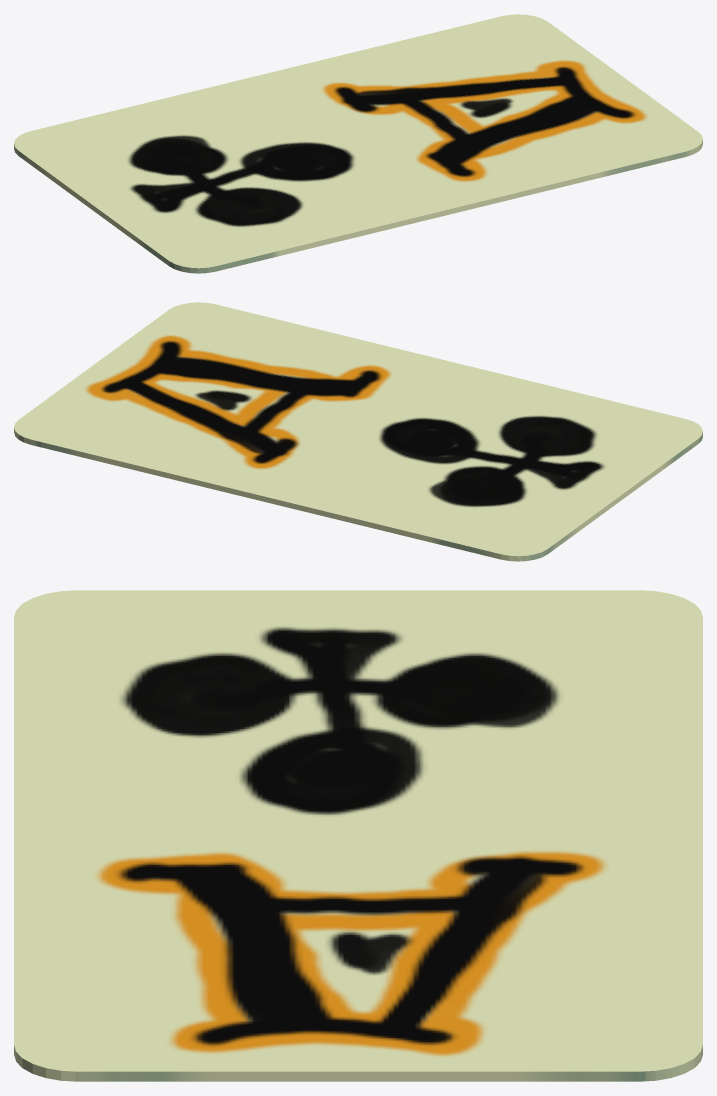
3 views of the same model, one above another, from view 1: azimuth 30°, elevation 25°; view 2: azimuth 150°, elevation 25°; view 3: azimuth 270°, elevation 25° (orthographic). The views are drawn at different scales.
Visible parts, largest first — view 1: Card; view 2: Card; view 3: Card.
Boxes of the visible parts, <box> form: Card: <box>14,14,702,273</box>; Card: <box>14,302,702,561</box>; Card: <box>14,590,702,1081</box>.
Size of the model in its own units: 0.6456 by 0.3904 by 0.00625.
1 material, 1 textured.
